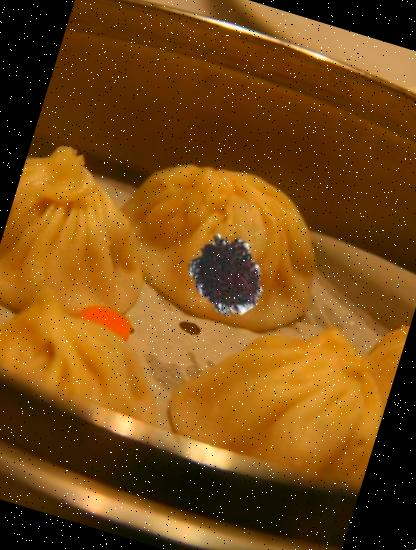Rambutan: (178, 225, 279, 326)
